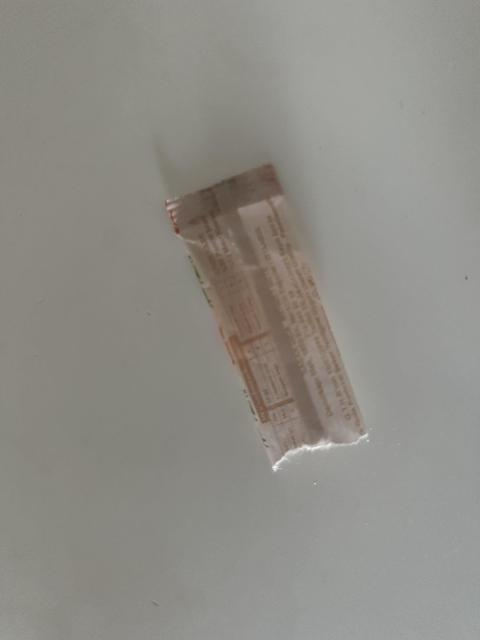Kagit: (164, 162, 371, 471)
